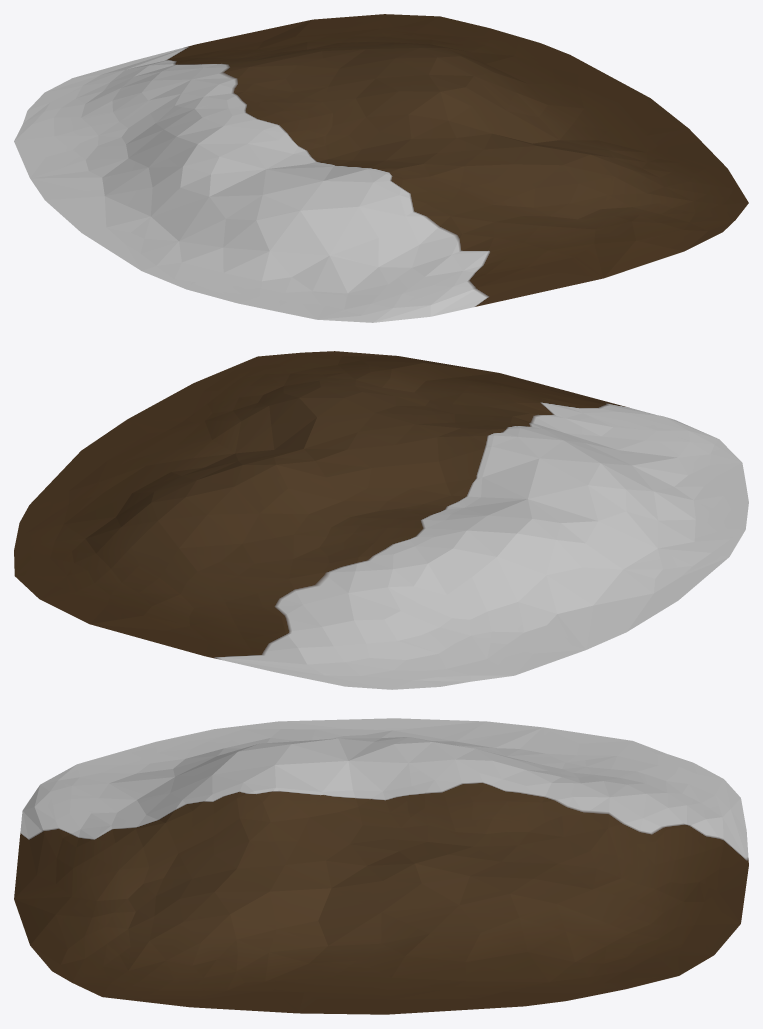
File: Hill_02.fbx
3 views of the same model, one above another, from view 1: azimuth 30°, elevation 25°; view 2: azimuth 150°, elevation 25°; view 3: azimuth 270°, elevation 25° (orthographic). The views are drawn at different scales.
Parts seen in each view (by area): view 1: Hill_02; view 2: Hill_02; view 3: Hill_02.
Part boxes in pixels (x1,y1,x2,y2): Hill_02: [14, 14, 748, 322]; Hill_02: [14, 351, 748, 689]; Hill_02: [14, 718, 748, 1014].
Size of the model in its own units: 18.87 by 1.55 by 19.77.
